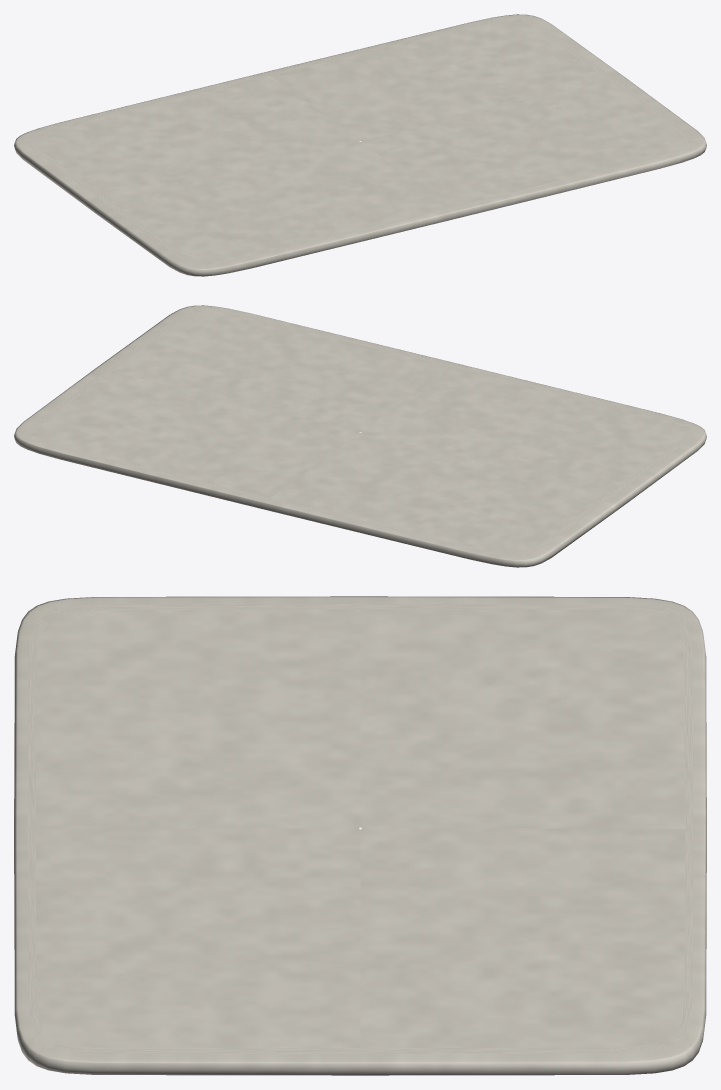
3 renders of one model, top to bottom at view 1: azimuth 30°, elevation 25°; view 2: azimuth 150°, elevation 25°; view 3: azimuth 270°, elevation 25°, orthographic. The views are drawn at different scales.
Parts seen in each view (by area): view 1: Bath mat; view 2: Bath mat; view 3: Bath mat.
Boxes of the visible parts, x1,y1,x2,y2 form: Bath mat: (14,14,706,276); Bath mat: (14,305,706,567); Bath mat: (14,596,706,1075).
Size of the model in its own units: 0.8 by 0.012 by 0.5.
Materials: 1 (1 with a texture image).
